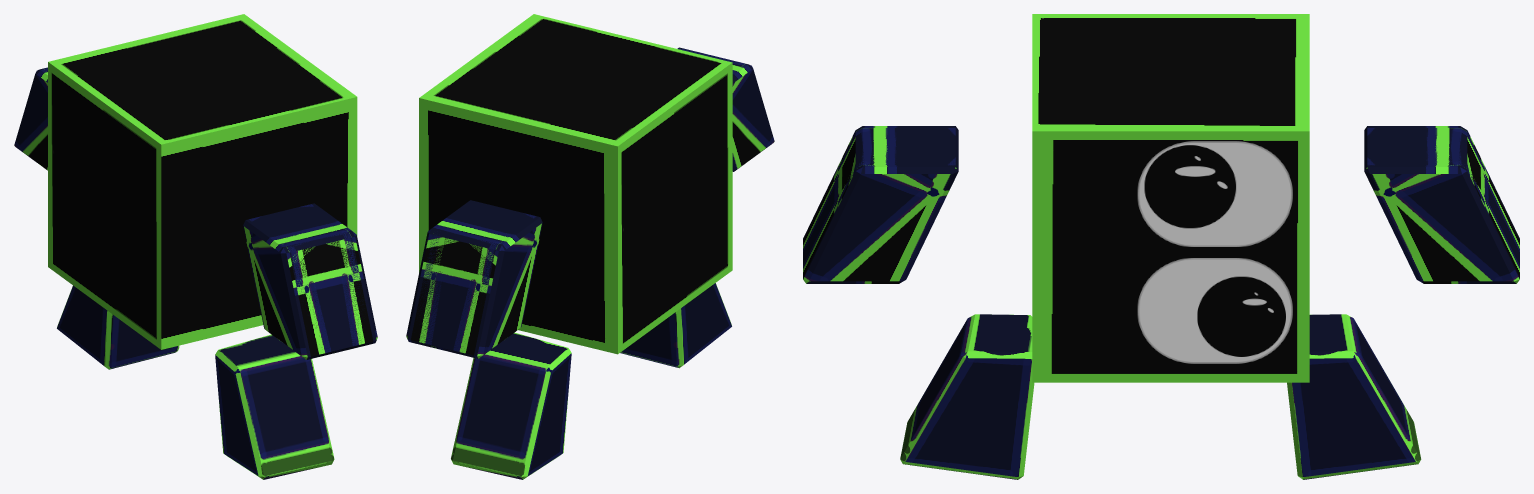
The model's file is Enemy3.gltf.
3 views of the same model, side by side, from view 1: azimuth 30°, elevation 25°; view 2: azimuth 150°, elevation 25°; view 3: azimuth 270°, elevation 25° (orthographic). The views are drawn at different scales.
Parts seen in each view (by area): view 1: Cube, Cube.003, Cube.001; view 2: Cube, Cube.001, Cube.003; view 3: Cube, Cube.001, Cube.003.
Part boxes in pixels (<box>): Cube: <box>48,14,357,349</box>; Cube.003: <box>57,285,334,479</box>; Cube.001: <box>14,67,377,359</box>; Cube: <box>419,14,732,354</box>; Cube.001: <box>406,47,774,358</box>; Cube.003: <box>451,283,731,479</box>; Cube: <box>1032,14,1309,382</box>; Cube.001: <box>803,126,1519,283</box>; Cube.003: <box>900,314,1421,479</box>.
Size of the model in its own units: 1.95 by 3.06 by 5.05.
Materials: 2 (2 with a texture image).
